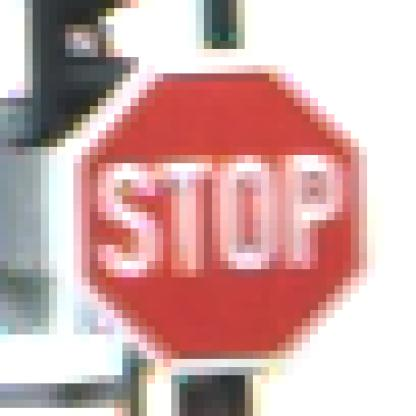Stop: (76, 63, 372, 369)
